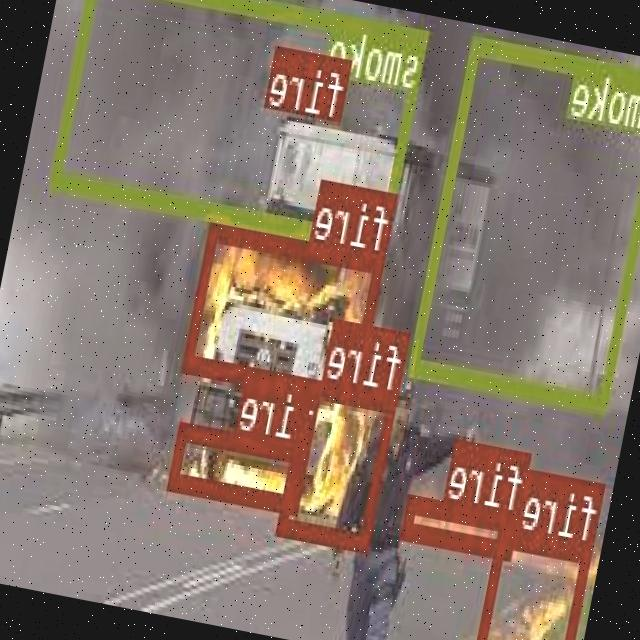fire: (185, 221, 388, 401), (279, 376, 401, 550), (475, 527, 594, 640), (170, 418, 312, 509), (404, 492, 522, 556), (298, 52, 354, 115)
smoke: (53, 0, 430, 249), (411, 34, 640, 409)
